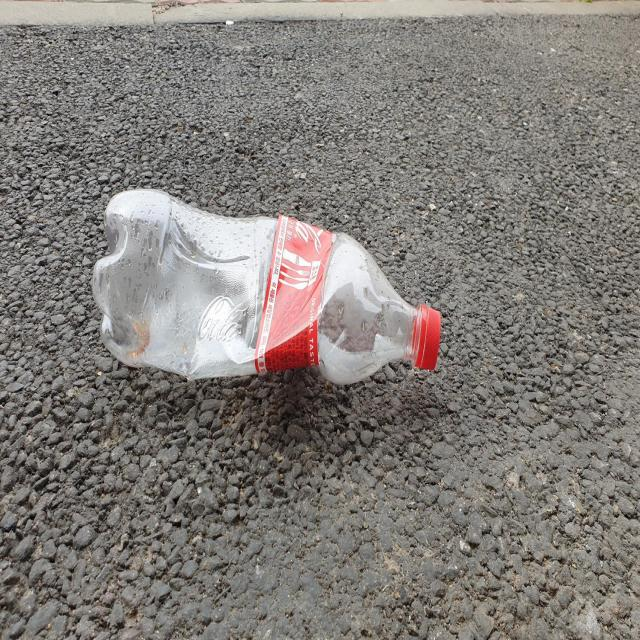plastic: (92, 188, 441, 384)
